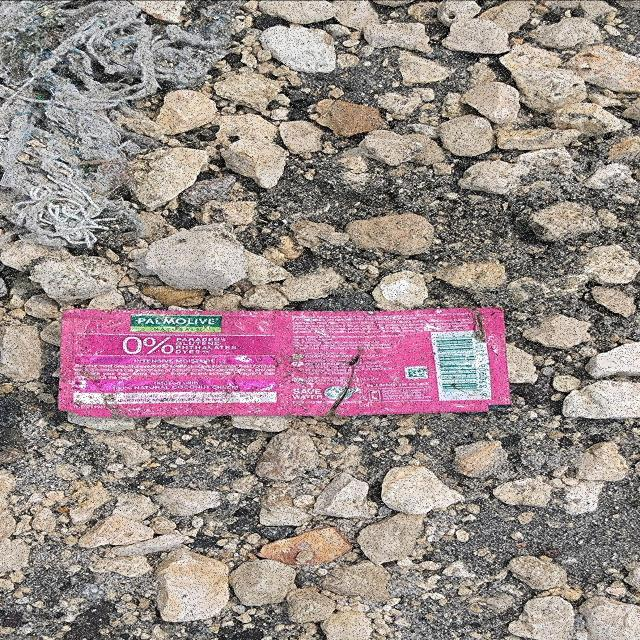plastic_waste: (59, 306, 516, 418)
